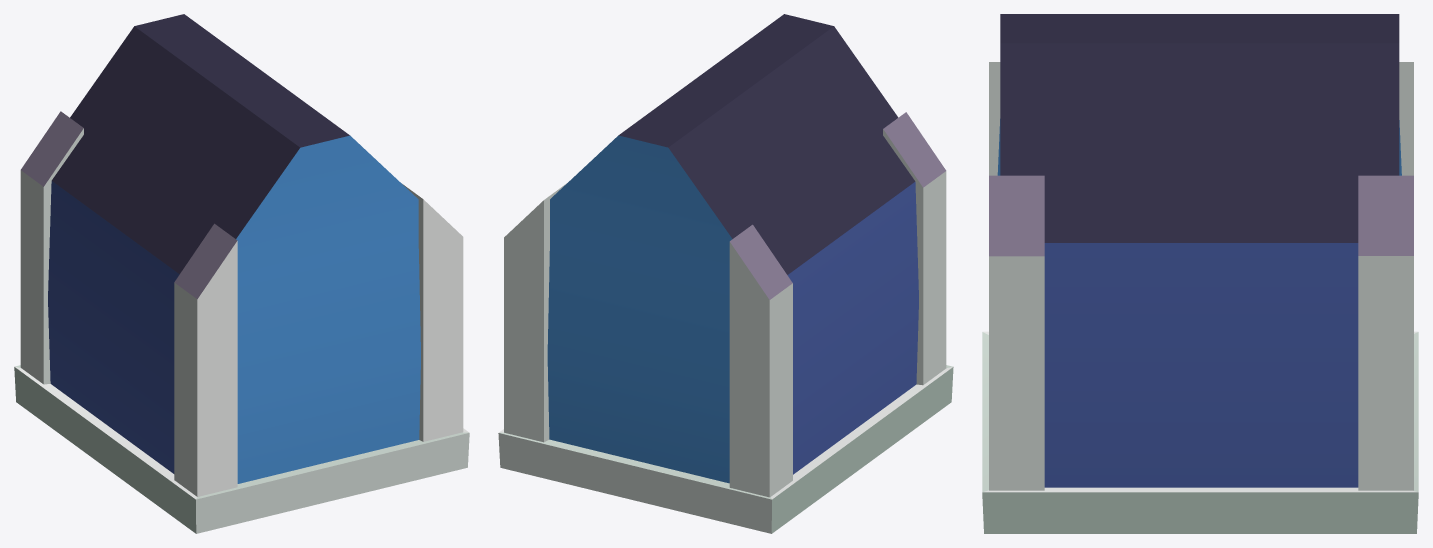
Rendered from House02_Blue_White.glb.
3 views of the same model, side by side, from view 1: azimuth 30°, elevation 25°; view 2: azimuth 150°, elevation 25°; view 3: azimuth 270°, elevation 25° (orthographic). The views are drawn at different scales.
Parts seen in each view (by area): view 1: House02_Blue_White; view 2: House02_Blue_White; view 3: House02_Blue_White.
Part boxes in pixels (box(x1,y1,x2,y2)): House02_Blue_White: box(14, 14, 469, 533); House02_Blue_White: box(498, 14, 953, 533); House02_Blue_White: box(982, 14, 1418, 533).
Size of the model in its own units: 2.04 by 2.52 by 2.34.
Materials: 1 (1 with a texture image).
